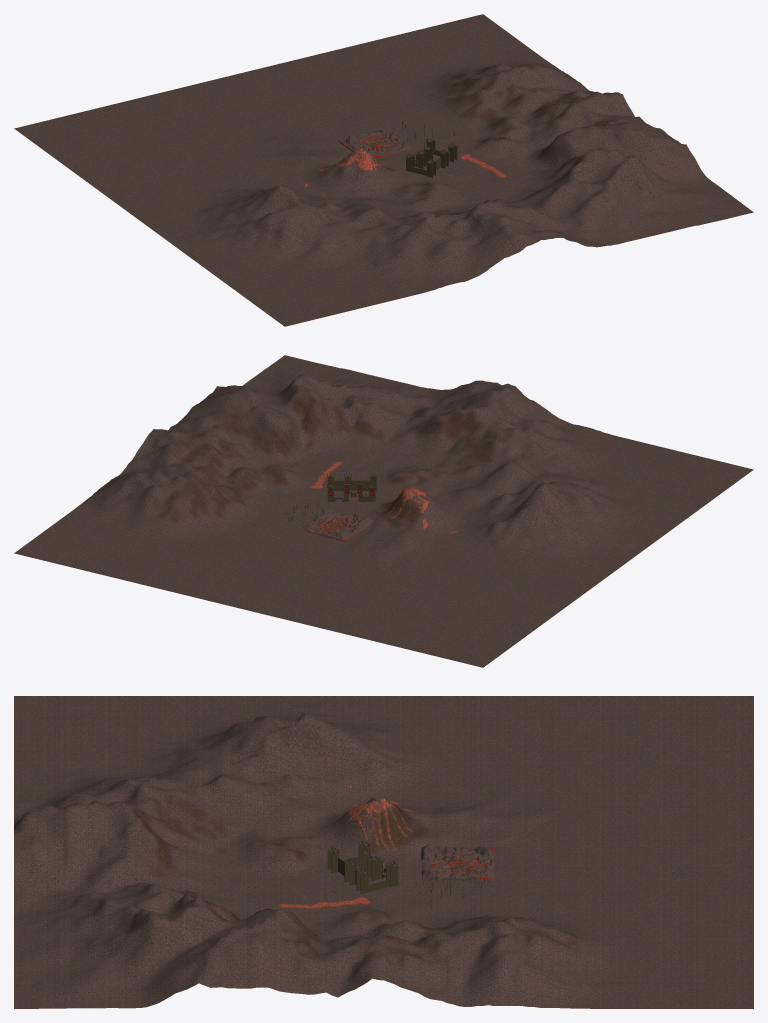
The model's file is bf_lava.glb.
3 views of the same model, one above another, from view 1: azimuth 30°, elevation 25°; view 2: azimuth 150°, elevation 25°; view 3: azimuth 270°, elevation 25° (orthographic). The views are drawn at different scales.
Visible parts, largest first — view 1: Battlefield_Lava_terrain0, Battlefield_Lava_terrain1; view 2: Battlefield_Lava_terrain0, Battlefield_Lava_terrain1; view 3: Battlefield_Lava_terrain0, Battlefield_Lava_terrain1.
Boxes of the visible parts, left/top/right/bottom form: Battlefield_Lava_terrain0: left=14, top=14, right=753, bottom=326; Battlefield_Lava_terrain1: left=339, top=129, right=412, bottom=156; Battlefield_Lava_terrain0: left=14, top=355, right=753, bottom=667; Battlefield_Lava_terrain1: left=301, top=509, right=373, bottom=542; Battlefield_Lava_terrain0: left=14, top=696, right=753, bottom=1008; Battlefield_Lava_terrain1: left=421, top=844, right=495, bottom=880.
Bounding box in the file's own units: 2000 × 166 × 2000.
24 materials, 24 textured.
